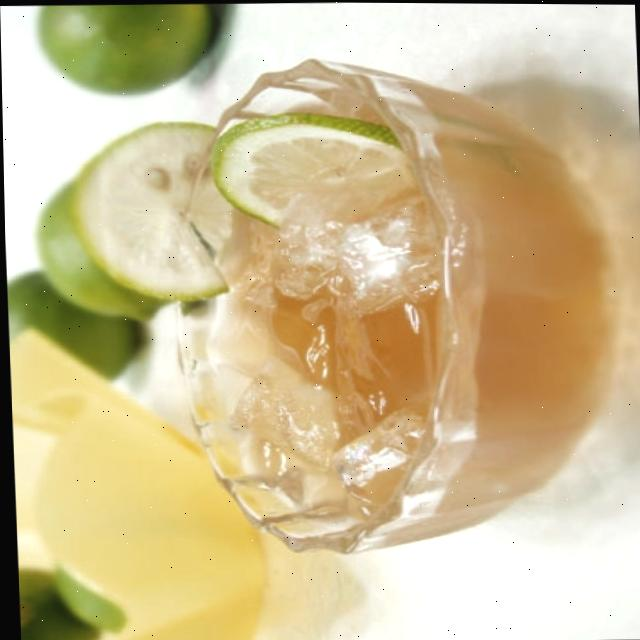蛋糕甜品: (119, 24, 557, 570)
